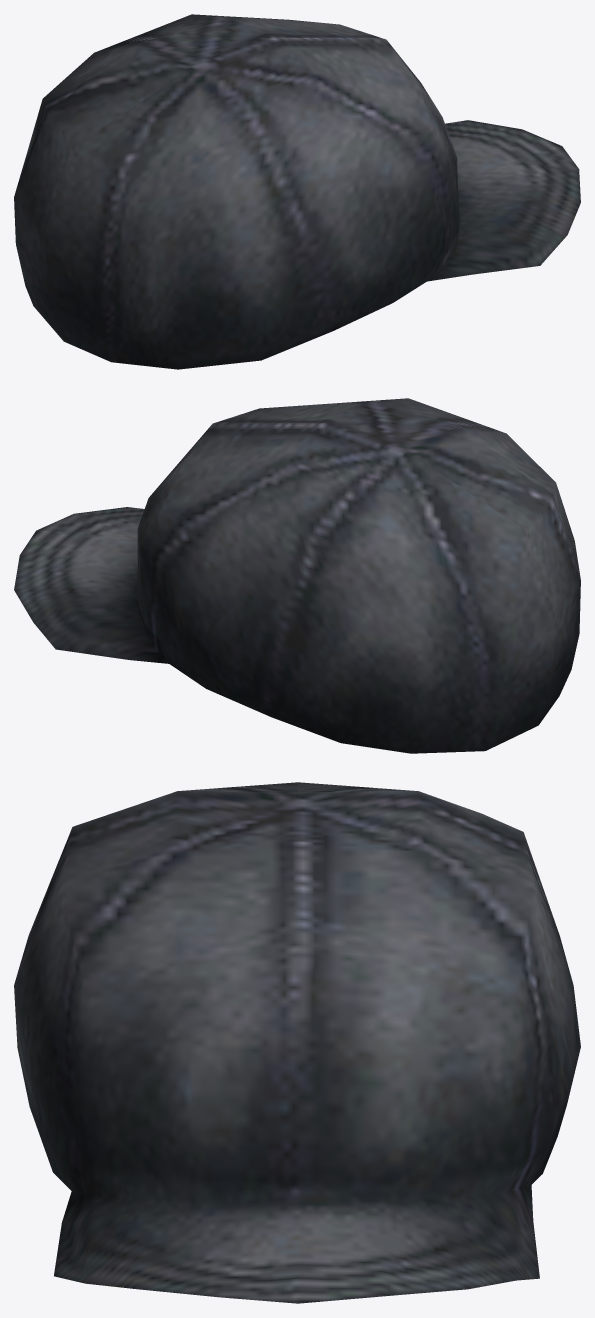
Rendered from hat_0450065.FBX.
3 views of the same model, one above another, from view 1: azimuth 30°, elevation 25°; view 2: azimuth 150°, elevation 25°; view 3: azimuth 270°, elevation 25° (orthographic). The views are drawn at different scales.
Visible parts, largest first — view 1: hat_0450065; view 2: hat_0450065; view 3: hat_0450065.
Boxes of the visible parts, x1,y1,x2,y2 form: hat_0450065: (14, 14, 580, 369); hat_0450065: (14, 398, 580, 753); hat_0450065: (14, 782, 580, 1303).
Size of the model in its own units: 33.92 by 15.62 by 22.06.
